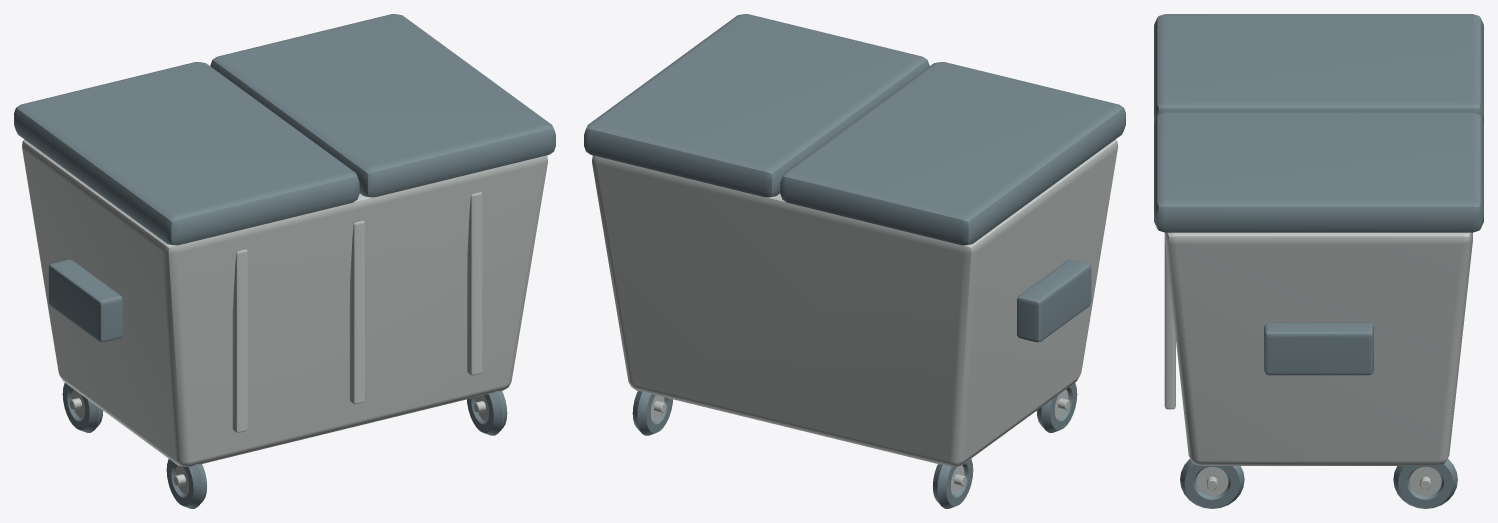
Rendered from dumpster.glb.
3 views of the same model, side by side, from view 1: azimuth 30°, elevation 25°; view 2: azimuth 150°, elevation 25°; view 3: azimuth 270°, elevation 25° (orthographic). The views are drawn at different scales.
Parts seen in each view (by area): view 1: bin_body, lid_half, lid_half.001, lifting_pocket, front_rib.002, front_rib, front_rib.001, caster_tire.001, caster_tire.003, caster_tire; view 2: bin_body, lid_half, lid_half.001, lifting_pocket, caster_tire, caster_tire.002, caster_tire.001; view 3: bin_body, lid_half.001, lid_half, lifting_pocket.001, caster_tire.002, caster_tire.003, front_rib.002, caster_wheel_face.002, caster_wheel_face.003.
Boxes of the visible parts, x1,y1,x2,y2 form: bin_body: [22, 139, 547, 466]; lid_half: [14, 62, 359, 245]; lid_half.001: [210, 14, 555, 197]; lifting_pocket: [48, 259, 122, 342]; front_rib.002: [467, 192, 482, 375]; front_rib: [232, 249, 247, 432]; front_rib.001: [349, 221, 364, 404]; caster_tire.001: [166, 459, 207, 508]; caster_tire.003: [467, 391, 507, 435]; caster_tire: [62, 383, 103, 432]; bin_body: [592, 139, 1117, 466]; lid_half: [780, 62, 1125, 245]; lid_half.001: [584, 14, 929, 197]; lifting_pocket: [1017, 259, 1091, 342]; caster_tire: [932, 459, 973, 508]; caster_tire.002: [632, 391, 672, 435]; caster_tire.001: [1036, 383, 1077, 432]; bin_body: [1165, 232, 1472, 465]; lid_half.001: [1154, 112, 1483, 232]; lid_half: [1154, 14, 1483, 122]; lifting_pocket.001: [1264, 322, 1373, 375]; caster_tire.002: [1393, 459, 1457, 508]; caster_tire.003: [1180, 459, 1244, 508]; front_rib.002: [1164, 233, 1175, 409]; caster_wheel_face.002: [1409, 466, 1441, 496]; caster_wheel_face.003: [1196, 466, 1228, 496].
Size of the model in its own units: 1.55 by 1.11 by 1.02.
